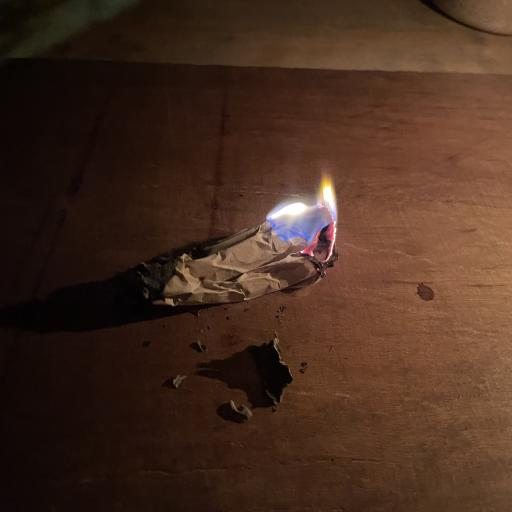fire: (255, 159, 365, 285)
